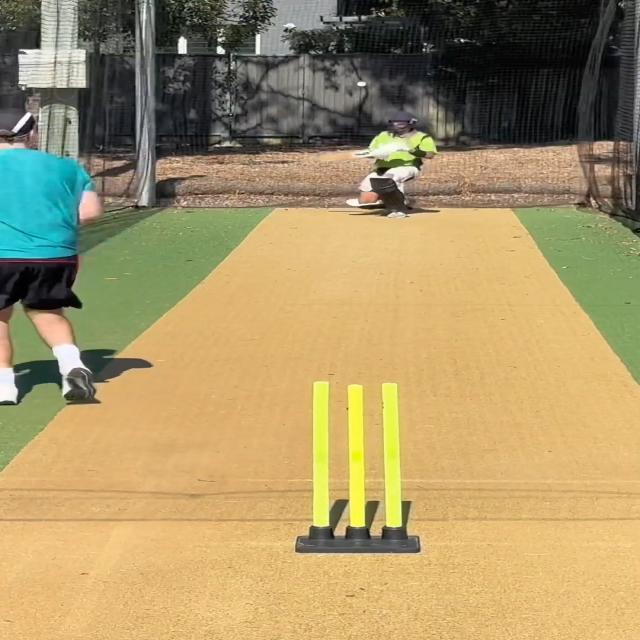ball: (356, 80, 368, 88)
stump: (296, 382, 421, 556)
